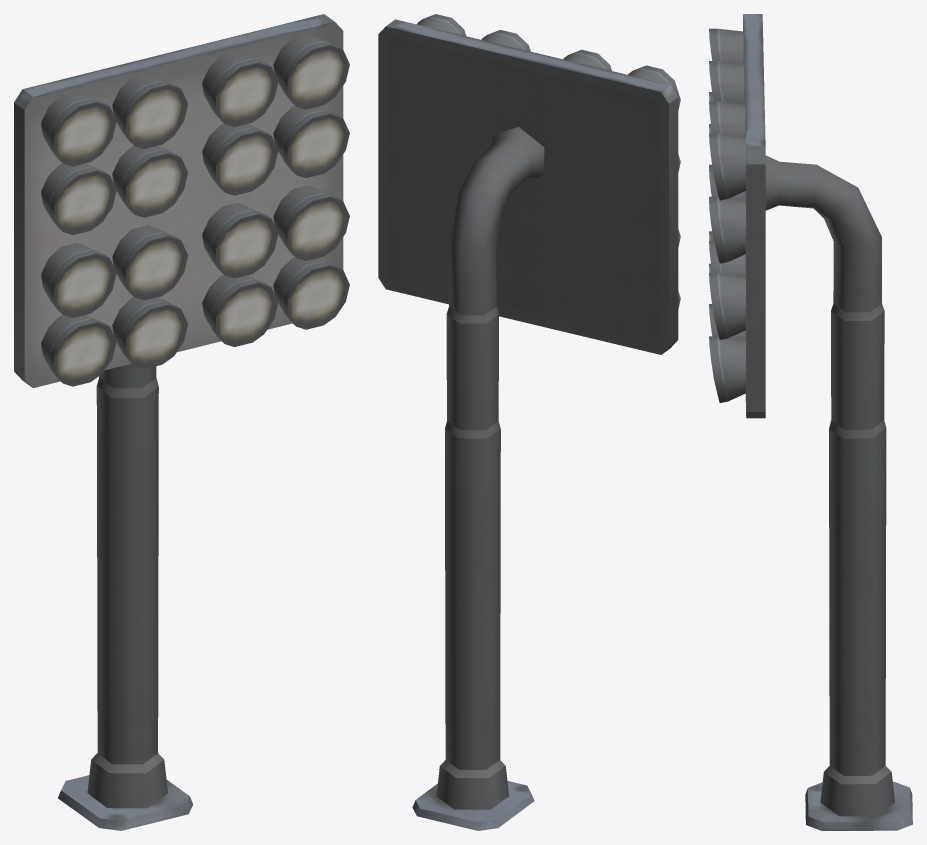
Rendered from pref_sm_beach_winter_techbiglight_lv3.fbx.
3 views of the same model, side by side, from view 1: azimuth 30°, elevation 25°; view 2: azimuth 150°, elevation 25°; view 3: azimuth 270°, elevation 25° (orthographic). The views are drawn at different scales.
Visible parts, largest first — view 1: pref_sm_beach_winter_techbiglight_lv3; view 2: pref_sm_beach_winter_techbiglight_lv3; view 3: pref_sm_beach_winter_techbiglight_lv3.
Boxes of the visible parts, <box> form: pref_sm_beach_winter_techbiglight_lv3: <box>14,14,349,830</box>; pref_sm_beach_winter_techbiglight_lv3: <box>378,14,680,830</box>; pref_sm_beach_winter_techbiglight_lv3: <box>709,14,912,830</box>.
Size of the model in its own units: 3.25 by 7.64 by 1.94.
